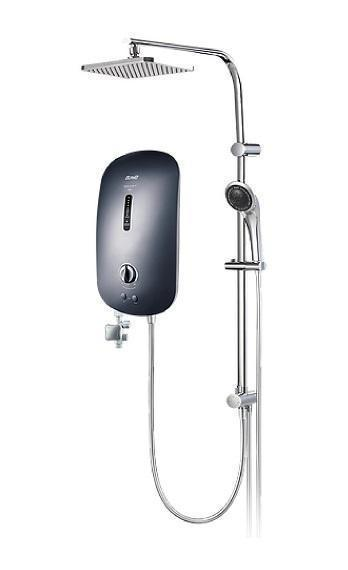Ducha: (60, 23, 278, 521)
